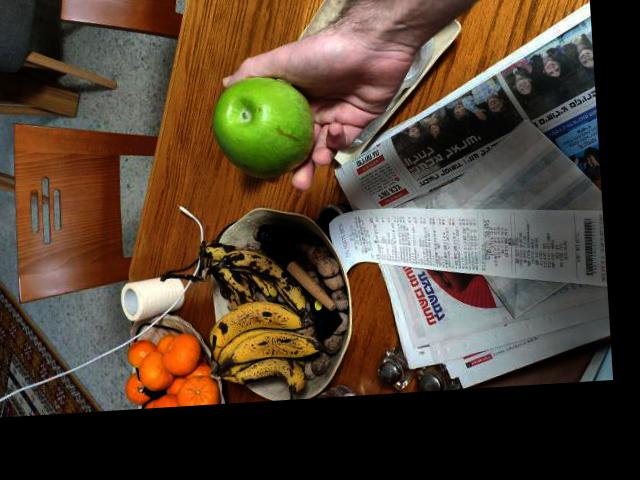apple: (203, 72, 318, 177)
